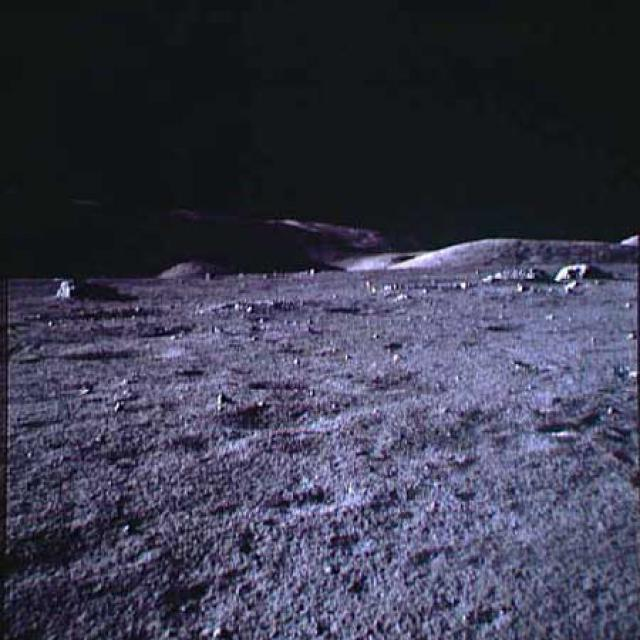crater: (214, 400, 343, 433), (26, 300, 161, 318), (249, 373, 312, 392)
rock: (51, 278, 117, 299), (556, 258, 607, 282), (477, 266, 546, 282)
